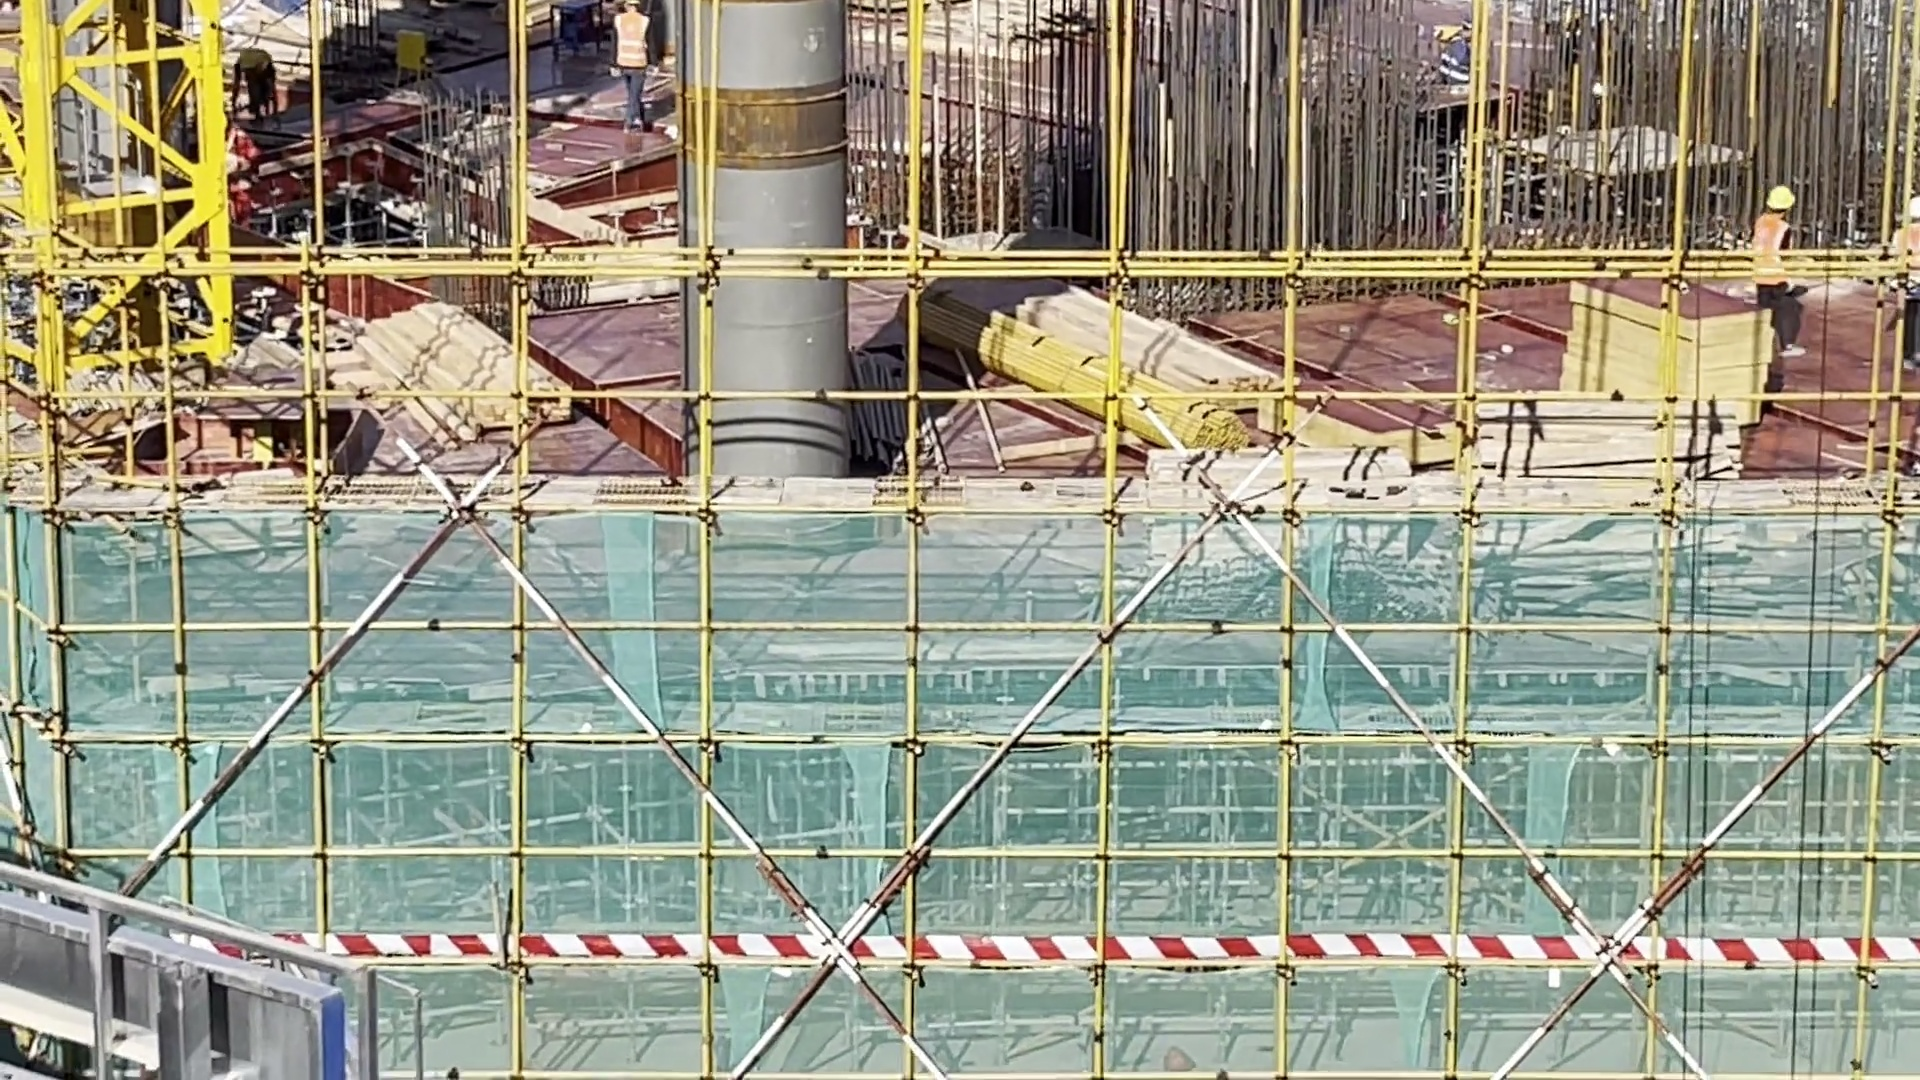board: (1573, 276, 1774, 426)
helmet: (1767, 186, 1800, 207)
person: (1747, 187, 1805, 356), (599, 1, 662, 138), (1894, 193, 1920, 352)
vest: (1751, 213, 1797, 297), (612, 14, 646, 74)
wood: (1019, 306, 1279, 445), (375, 310, 571, 430), (1488, 401, 1750, 480)
